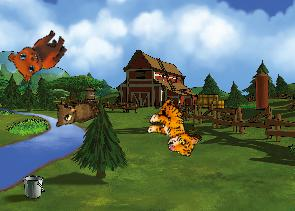bear: (3, 18, 72, 88)
owl: (48, 88, 102, 132)
tiger: (140, 95, 209, 160)
